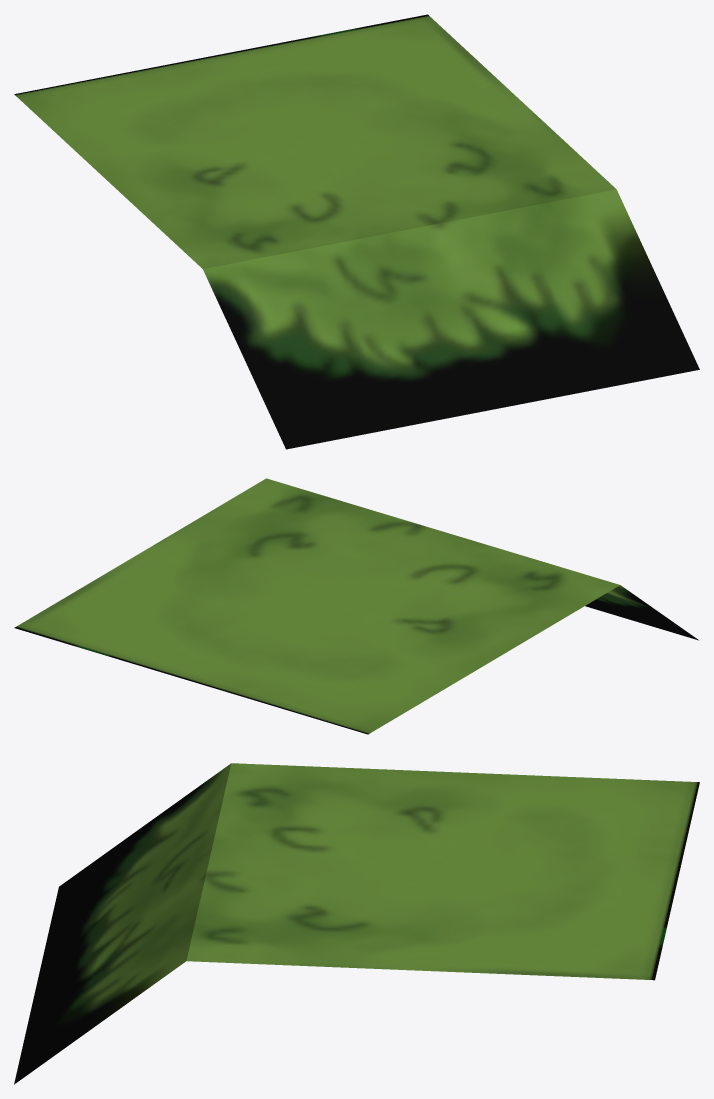
Rendered from bush1.fbx.
3 views of the same model, one above another, from view 1: azimuth 30°, elevation 25°; view 2: azimuth 150°, elevation 25°; view 3: azimuth 270°, elevation 25° (orthographic). The views are drawn at different scales.
Parts seen in each view (by area): view 1: Plane; view 2: Plane; view 3: Plane.
Boxes of the visible parts, left/top/right/bottom form: Plane: left=14, top=14, right=699, bottom=449; Plane: left=14, top=478, right=698, bottom=734; Plane: left=14, top=763, right=699, bottom=1084.
Size of the model in its own units: 40.22 by 10.68 by 53.72.
